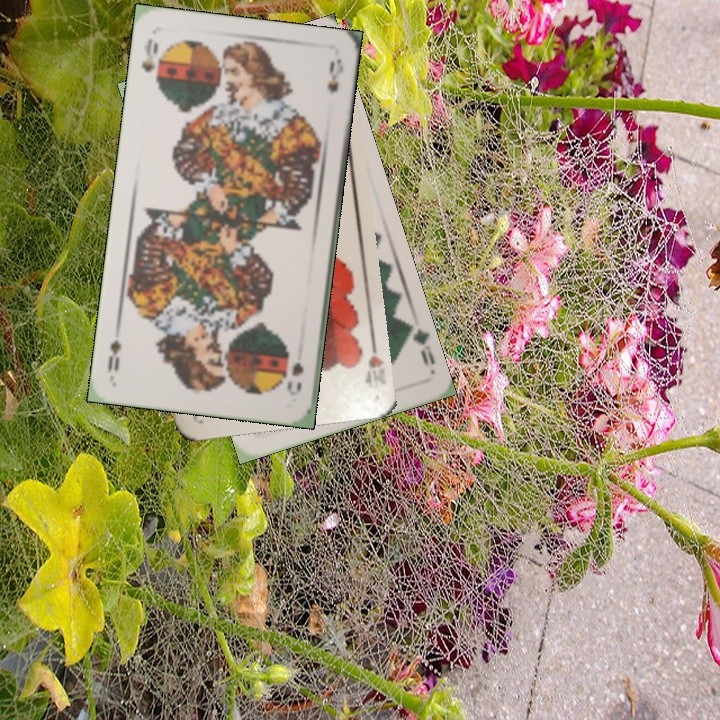G9: (402, 320, 438, 369)
H10: (361, 334, 388, 394)
SO: (137, 34, 163, 86), (283, 358, 306, 399)
